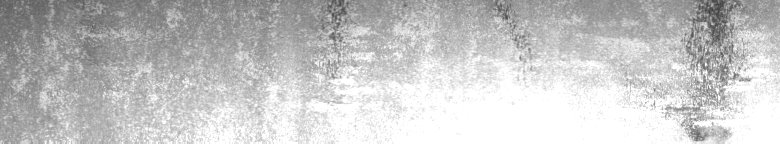hc: (676, 4, 750, 132)
